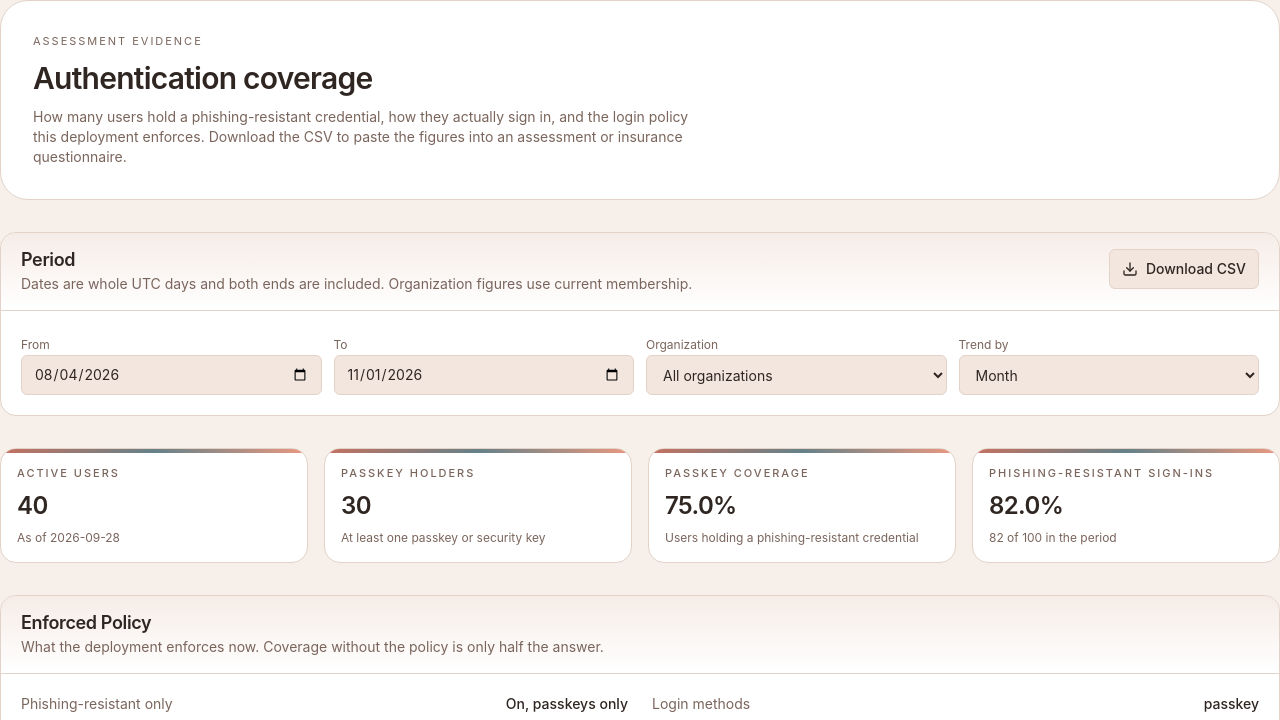
it: Coverage › refuses a period that ends before it starts
The width and height of the screenshot is (1280, 720).
Step 1. Type "2099-01-01" into the date field labelled "From" → point(171, 375), box [21,355,322,395]
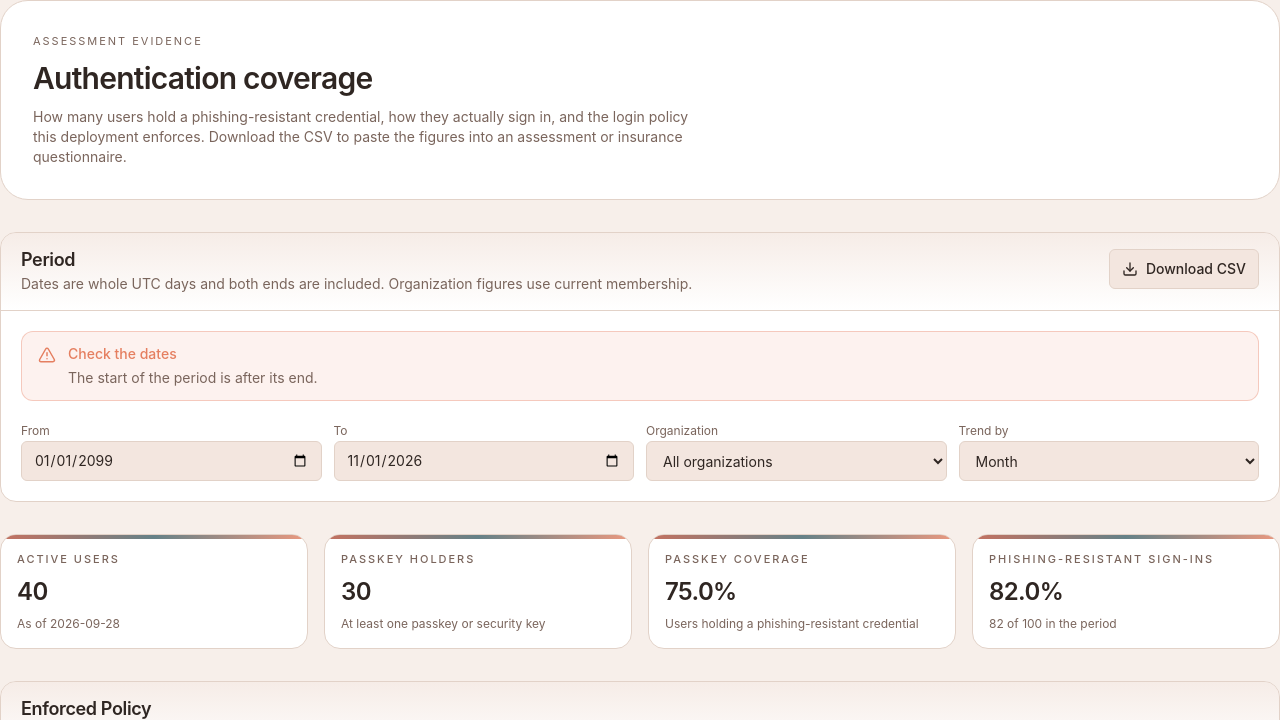
Expected: the button "Download CSV" is disabled, [1109,248,1259,288]
Now the text "Check the dates" is shown, box [68,345,177,362]
